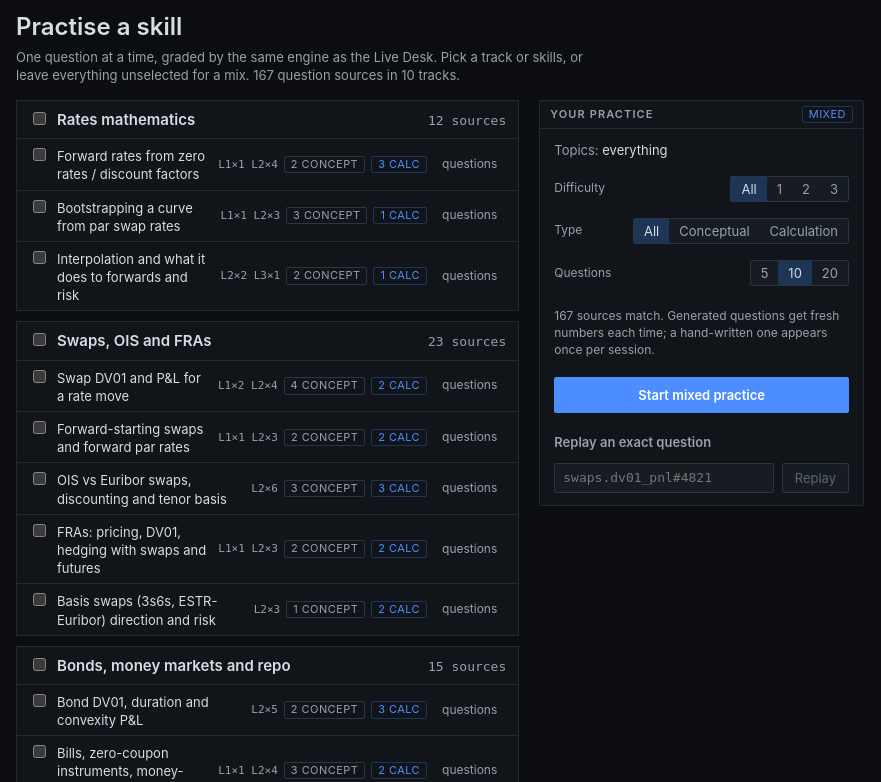
Test: TRAIN catalogue from the real question catalogue › counts the sources that match and refuses to start on none
Click the checkbox named "practise Swap DV01 and P&L for a rate move" at (40, 376), box top-left (33, 370), bottom-right (46, 383)
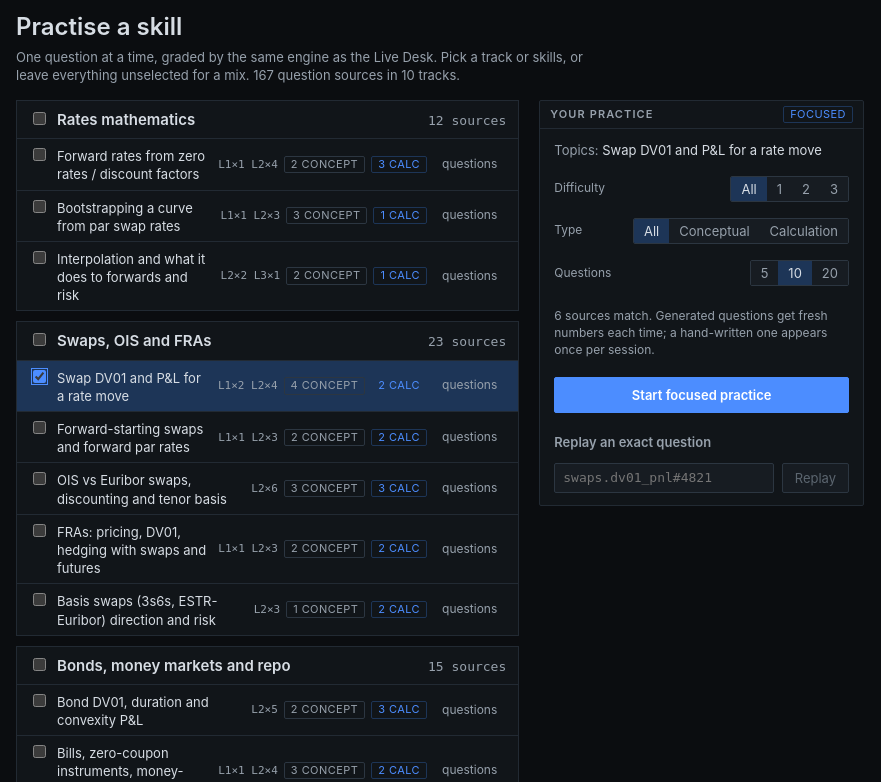
Click the button "3" at (834, 189), box top-left (820, 176), bottom-right (848, 201)
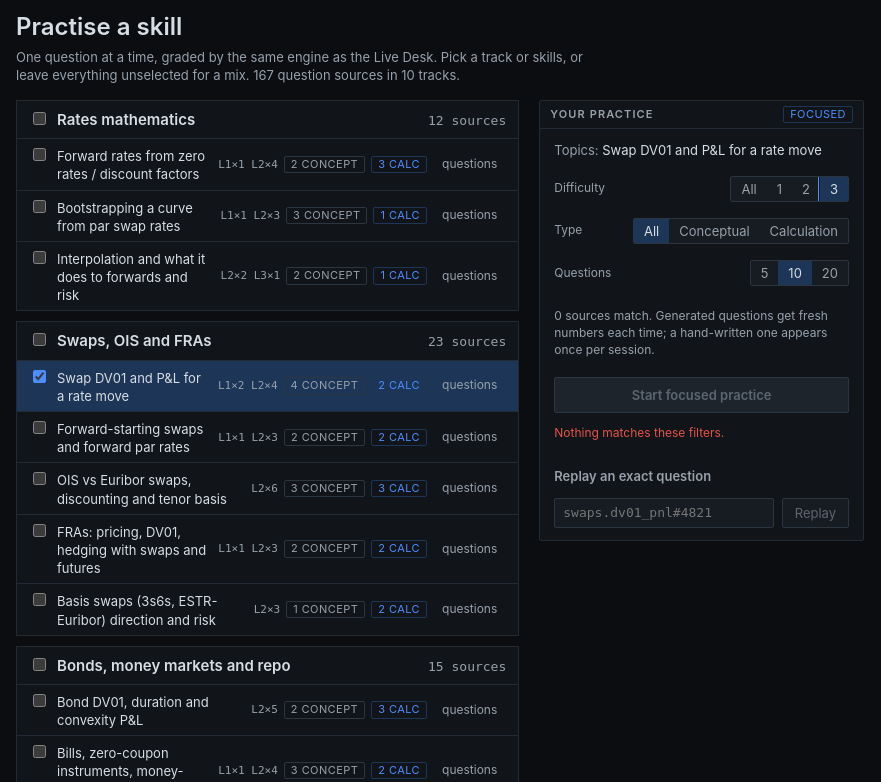
Expected: the text "Nothing matches these filters." is shown, top-left (554, 425), bottom-right (724, 440)
Expected: the button "Start focused practice" is disabled, top-left (554, 376), bottom-right (849, 413)
